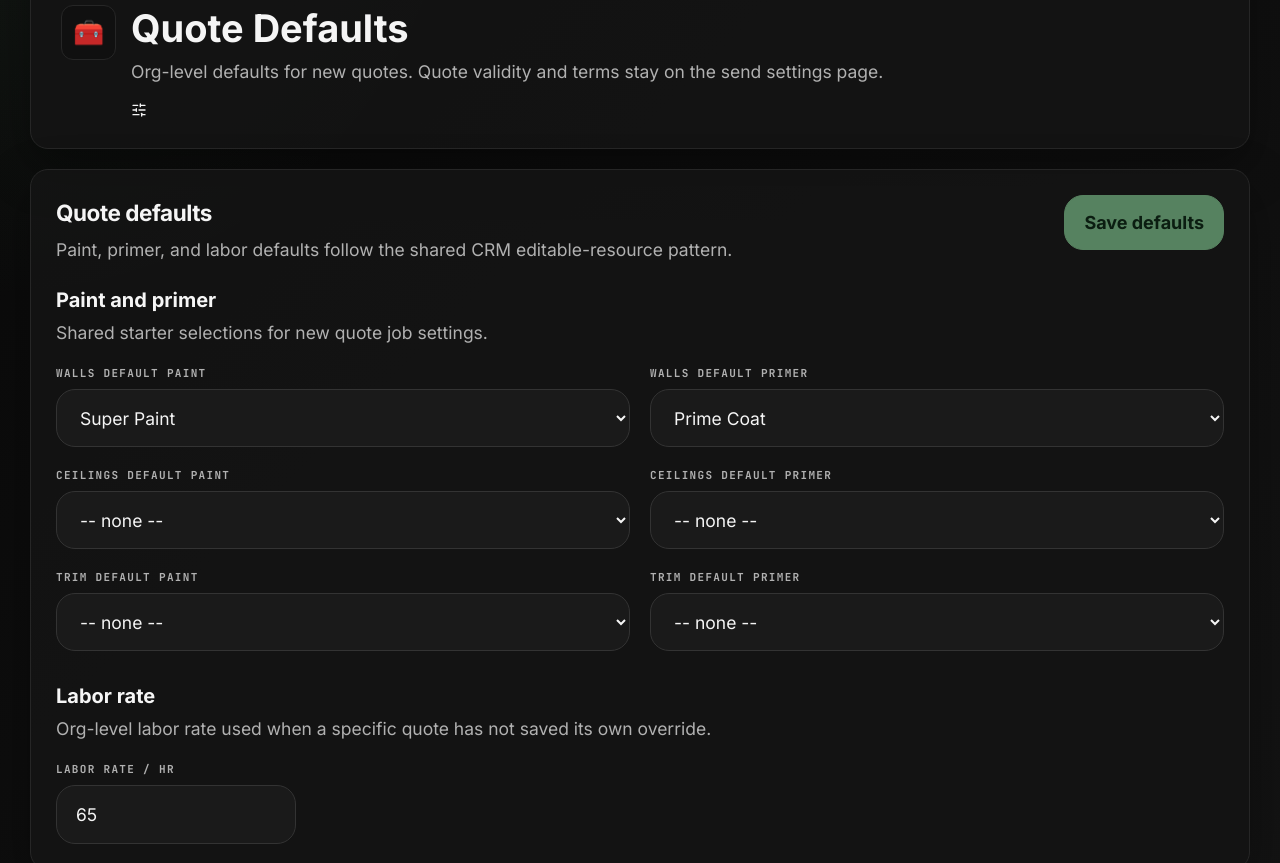
Test case: QuoteDefaultsPage › loads and saves quote defaults through the shared CRM resource shell
(page scrolled)
Replace the text in the number field showing "65" with "70" at (176, 814), box [56,785,296,844]
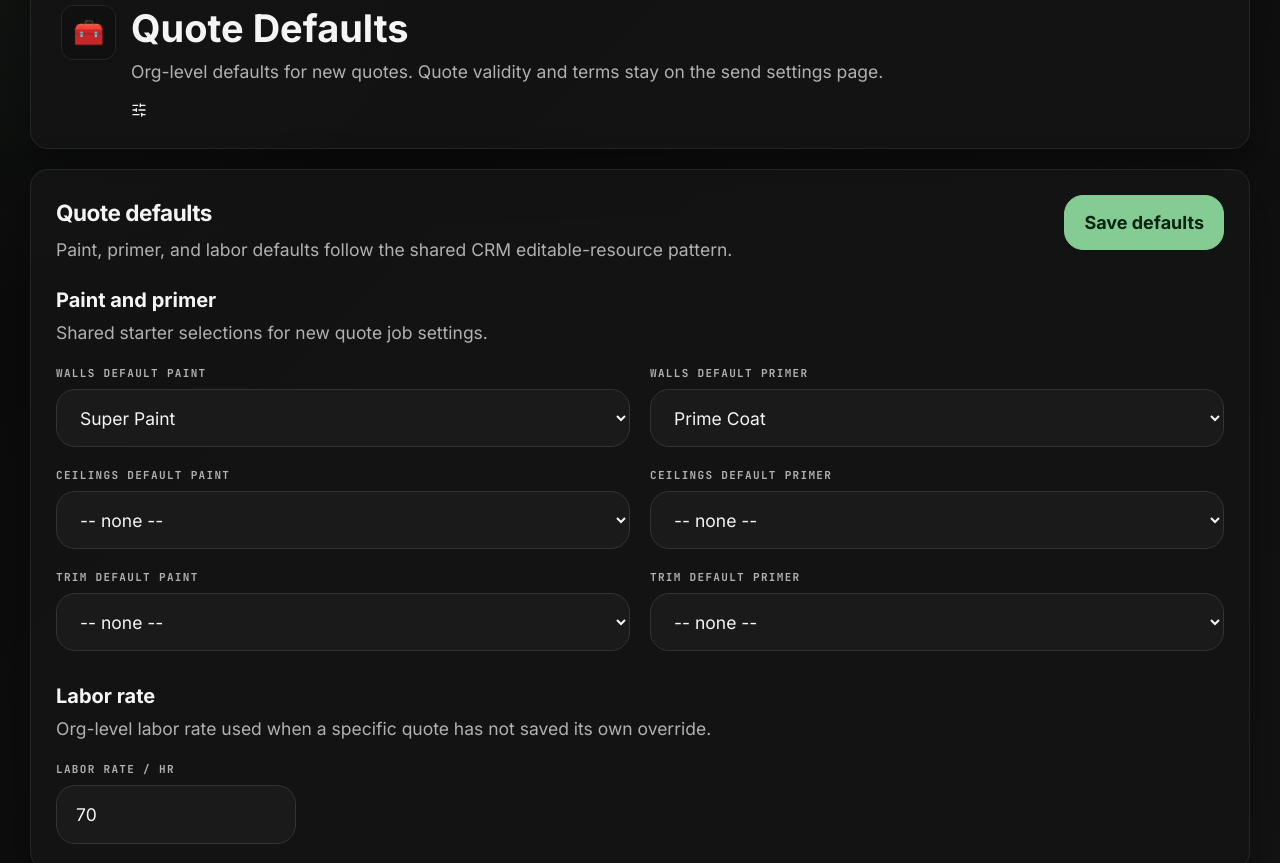
Click the button "Save defaults" at (1144, 222), box [1064,195,1224,250]
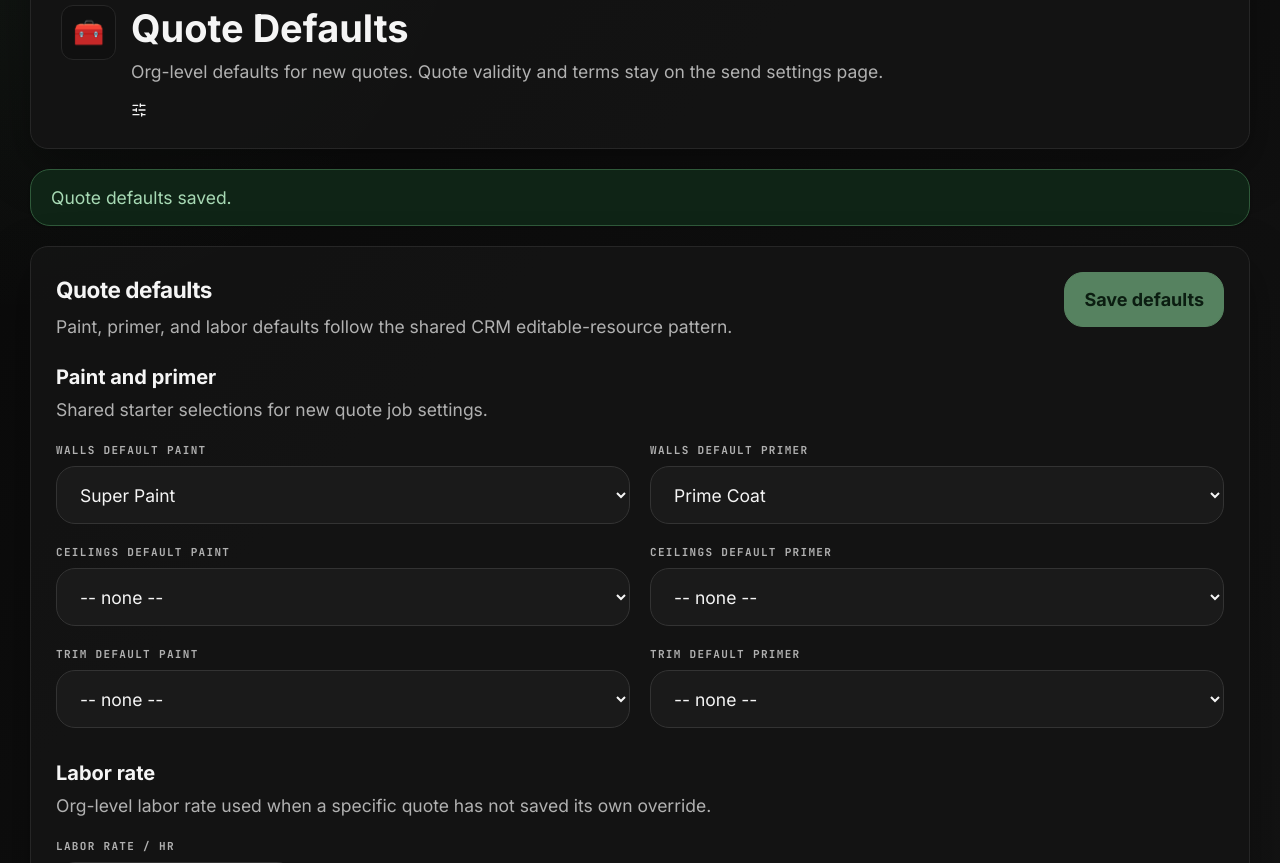
Expected: the text "Quote defaults saved." is shown, [51,185,232,210]
